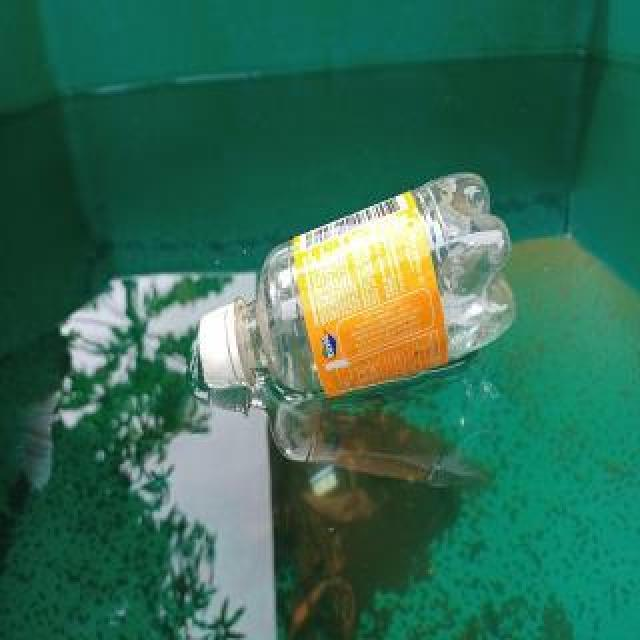bottle: (198, 169, 520, 397)
